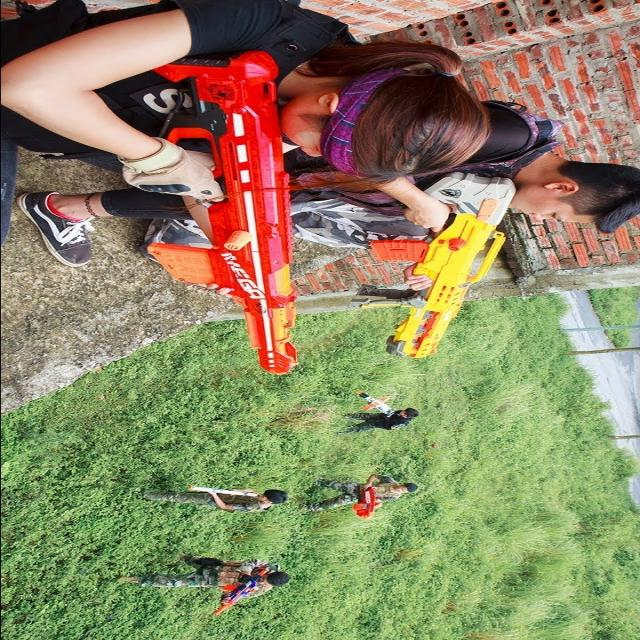Nerf gun: (142, 43, 308, 378), (358, 169, 522, 364), (202, 561, 276, 619), (182, 481, 264, 505), (345, 386, 400, 420), (348, 484, 388, 523)
